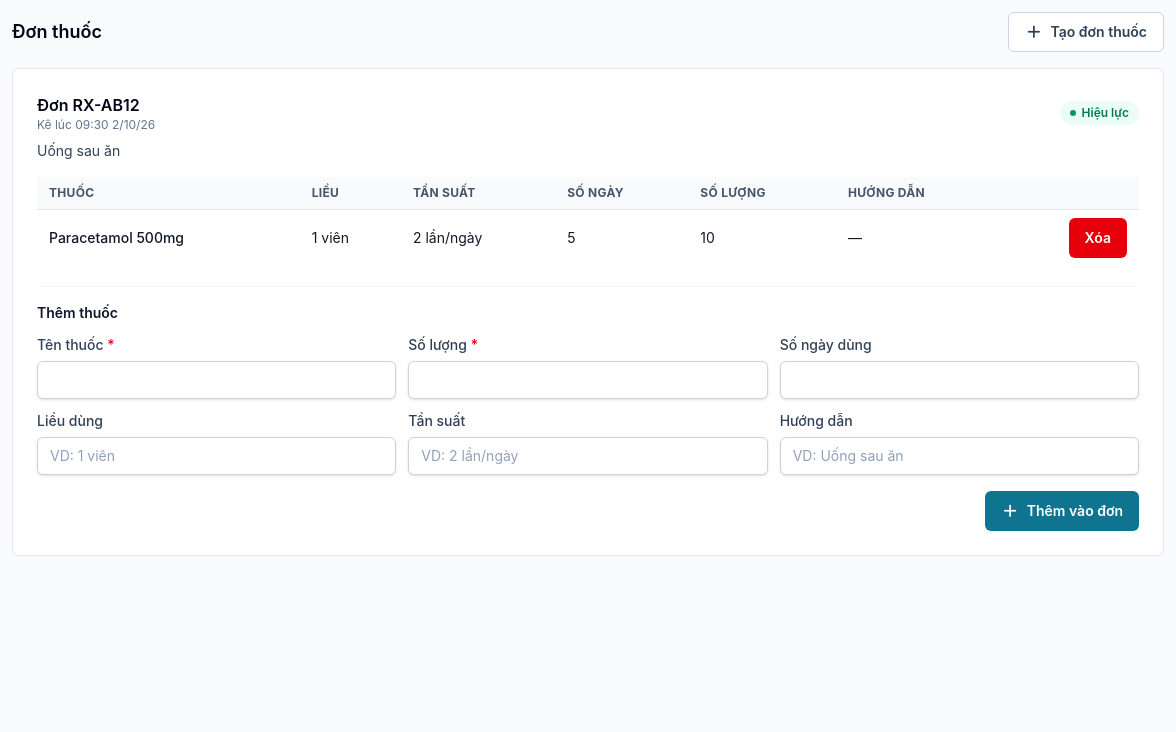
Test: EncounterPrescriptionsTab › kiểm tra dữ liệu trước khi gửi: thiếu tên thuốc, số lượng không hợp lệ
The width and height of the screenshot is (1176, 732).
Submit the form with test id "item-form-20", box [37,286,1139,531]
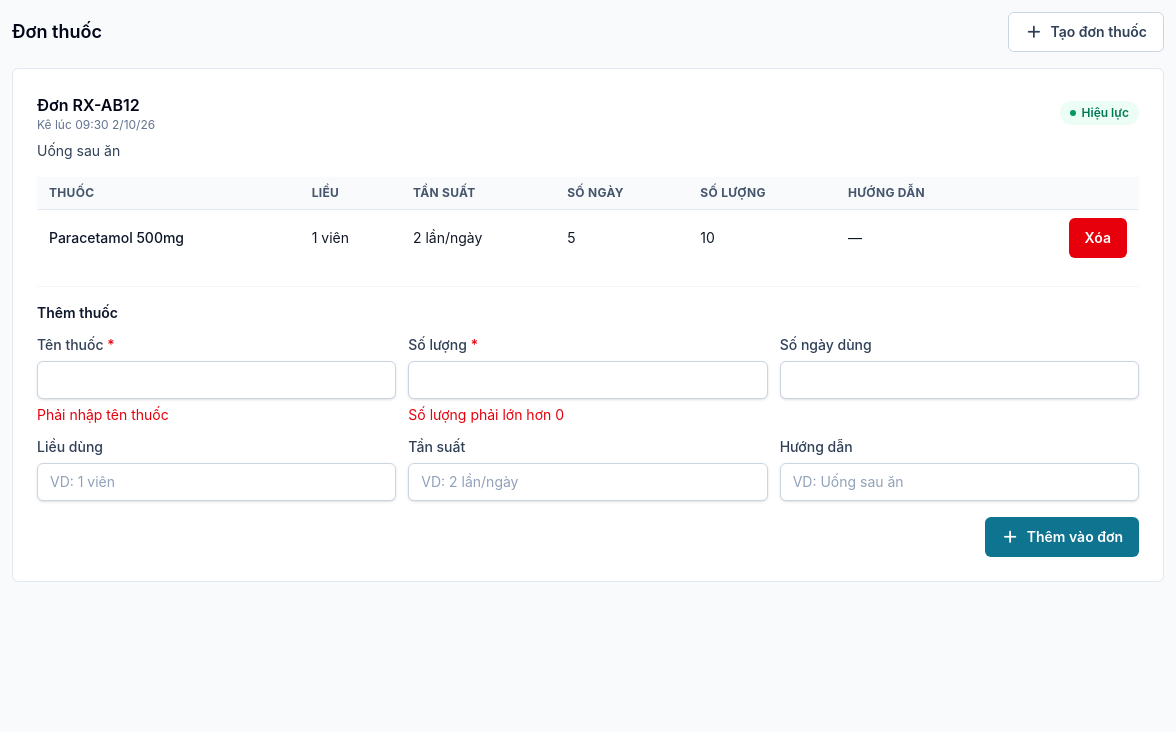
Expected: the text "Phải nhập tên thuốc" is shown, [37,406,169,423]
Expected: the text "Số lượng phải lớn hơn 0" is shown, [408,406,564,423]
Type "Amoxicillin" into the field with id "rx-20-name".
click(217, 380); type("Amoxicillin")  # box [37,361,396,399]
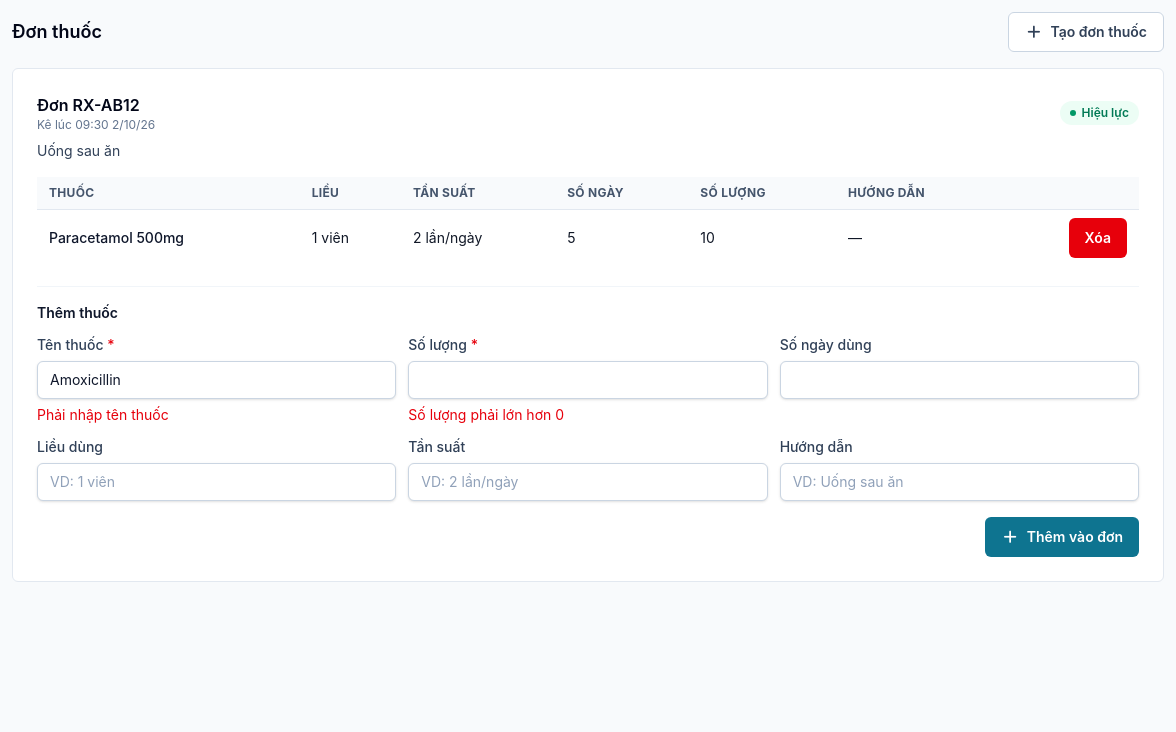
Type "3" into the number field with id "rx-20-quantity".
click(588, 380); type("3")  # box [408,361,768,399]
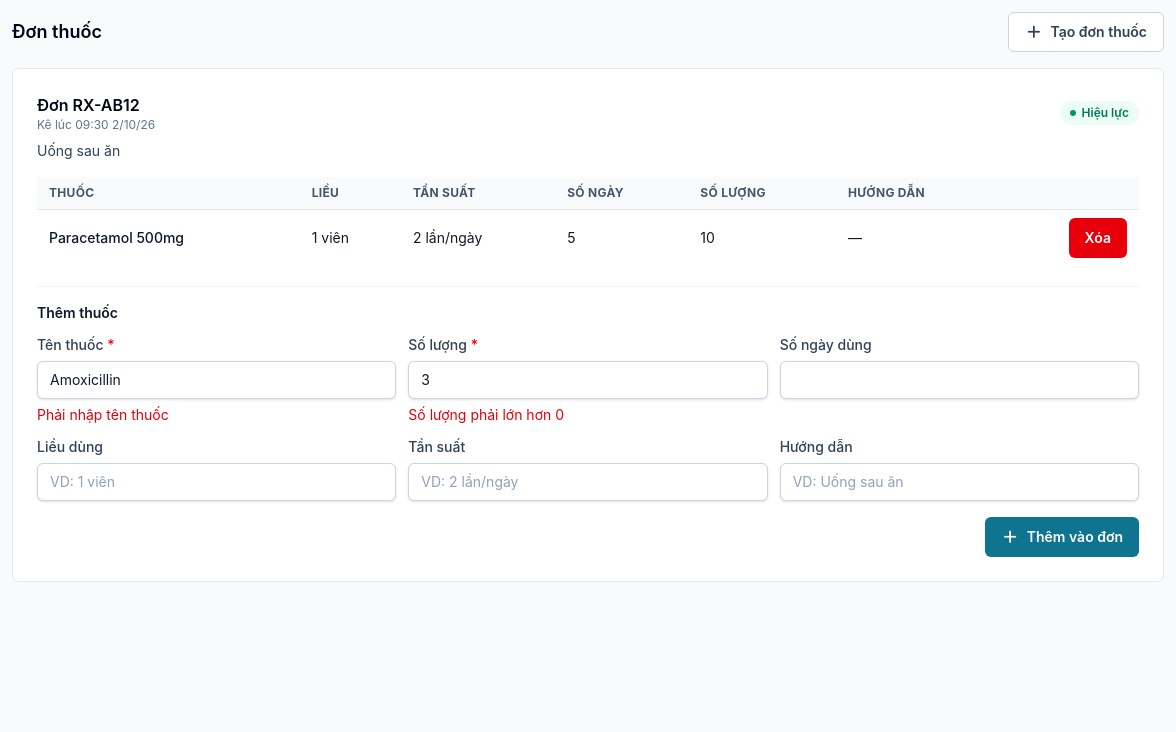
Type "0" into the number field with id "rx-20-days".
click(959, 380); type("0")  # box [780,361,1139,399]
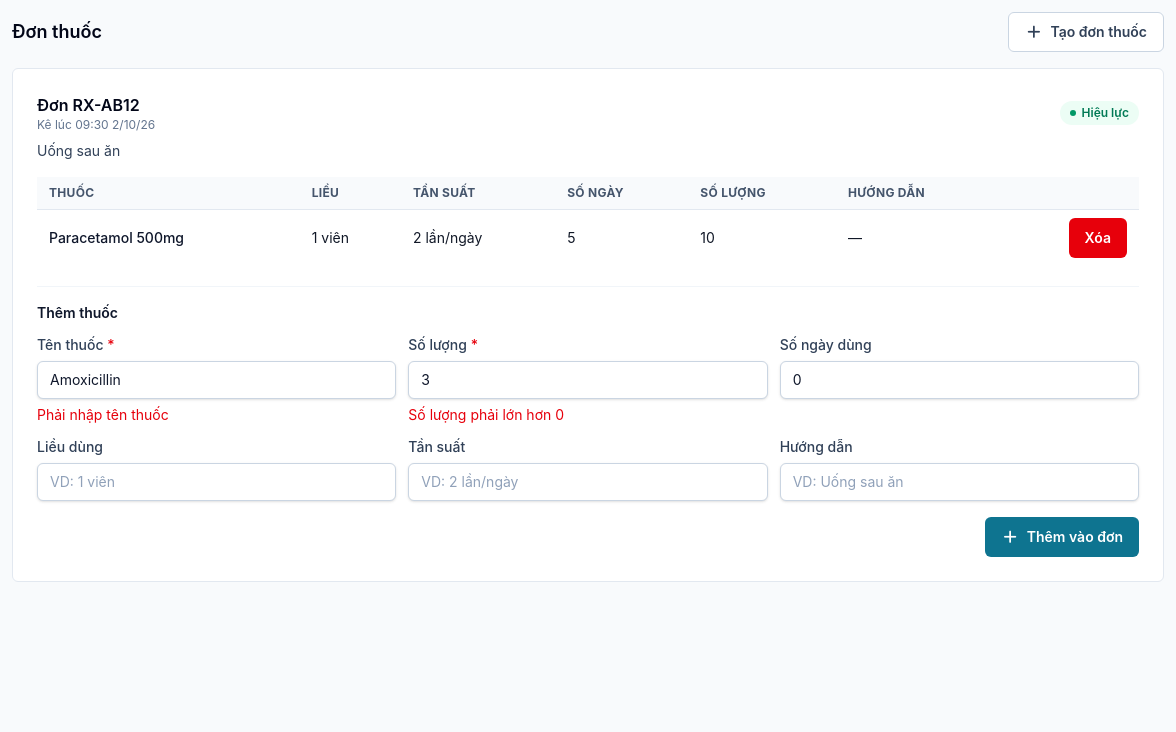
Submit the form with test id "item-form-20", box [37,286,1139,557]
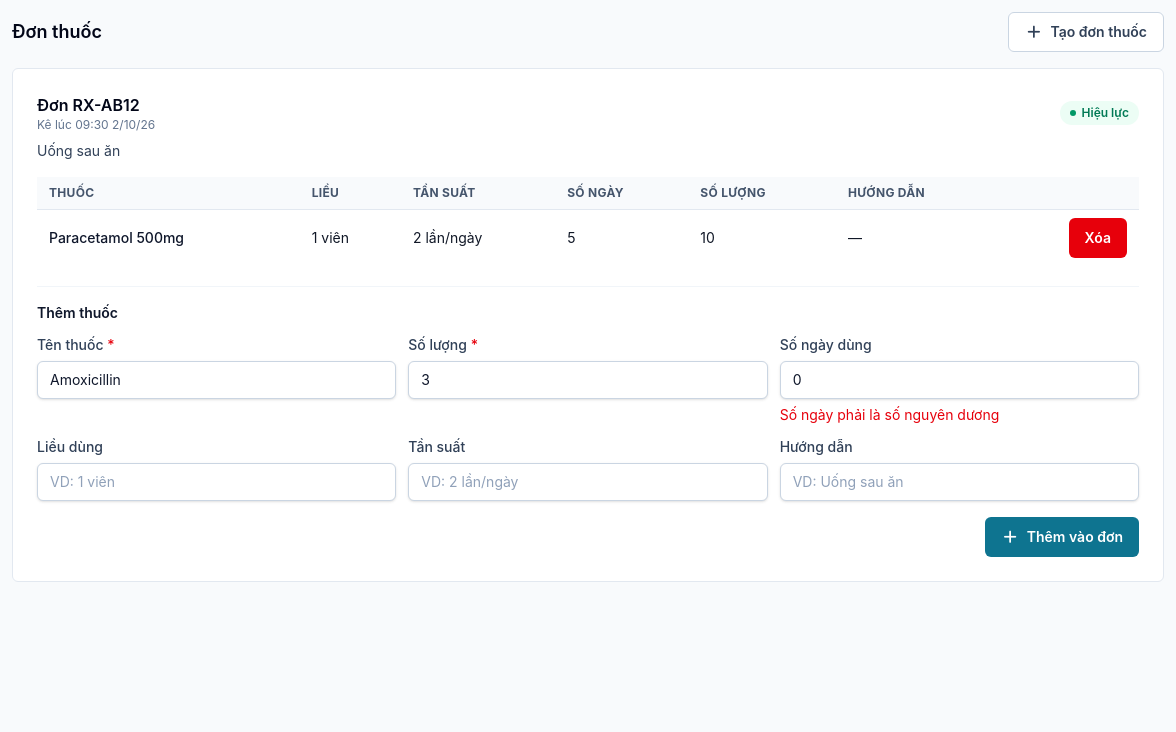
Expected: the text "Số ngày phải là số nguyên dương" is shown, [780,406,999,423]
